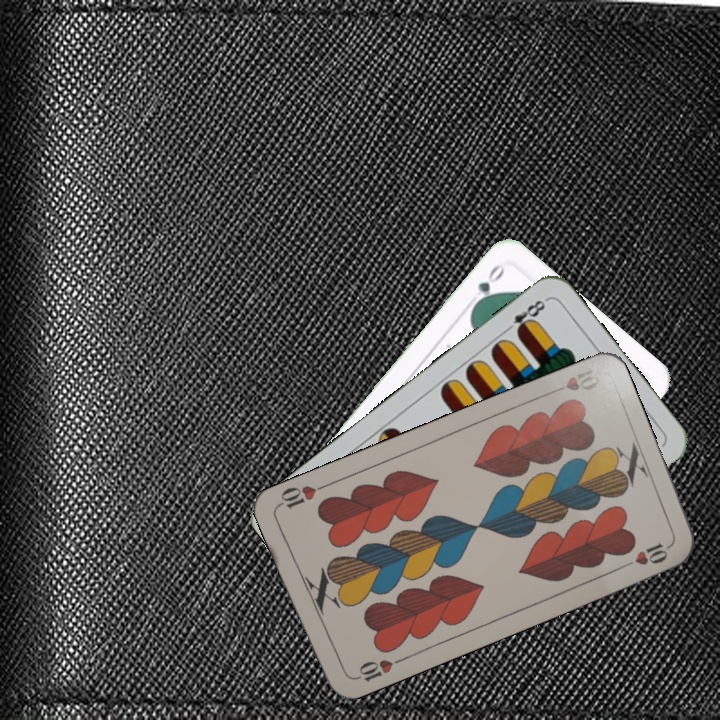E8: (499, 295, 550, 338)
GO: (468, 260, 509, 312)
H10: (545, 363, 604, 397), (348, 654, 405, 685)
